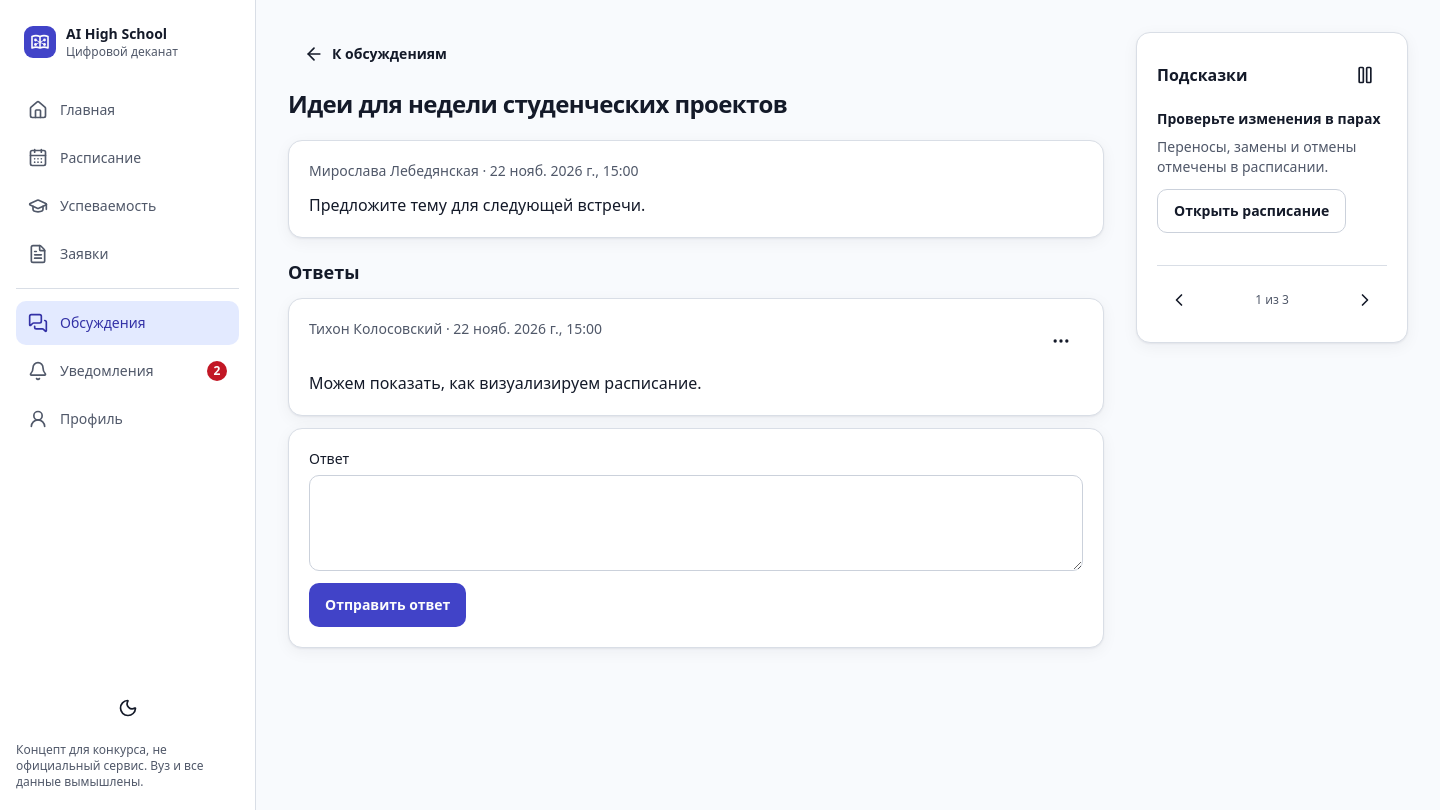
Test: валидирует жалобу, сохраняет причину при сбое и подтверждает повторную отправку
Click the button named "Действия с комментарием" at point(1061, 341), box [1039,319,1083,363]
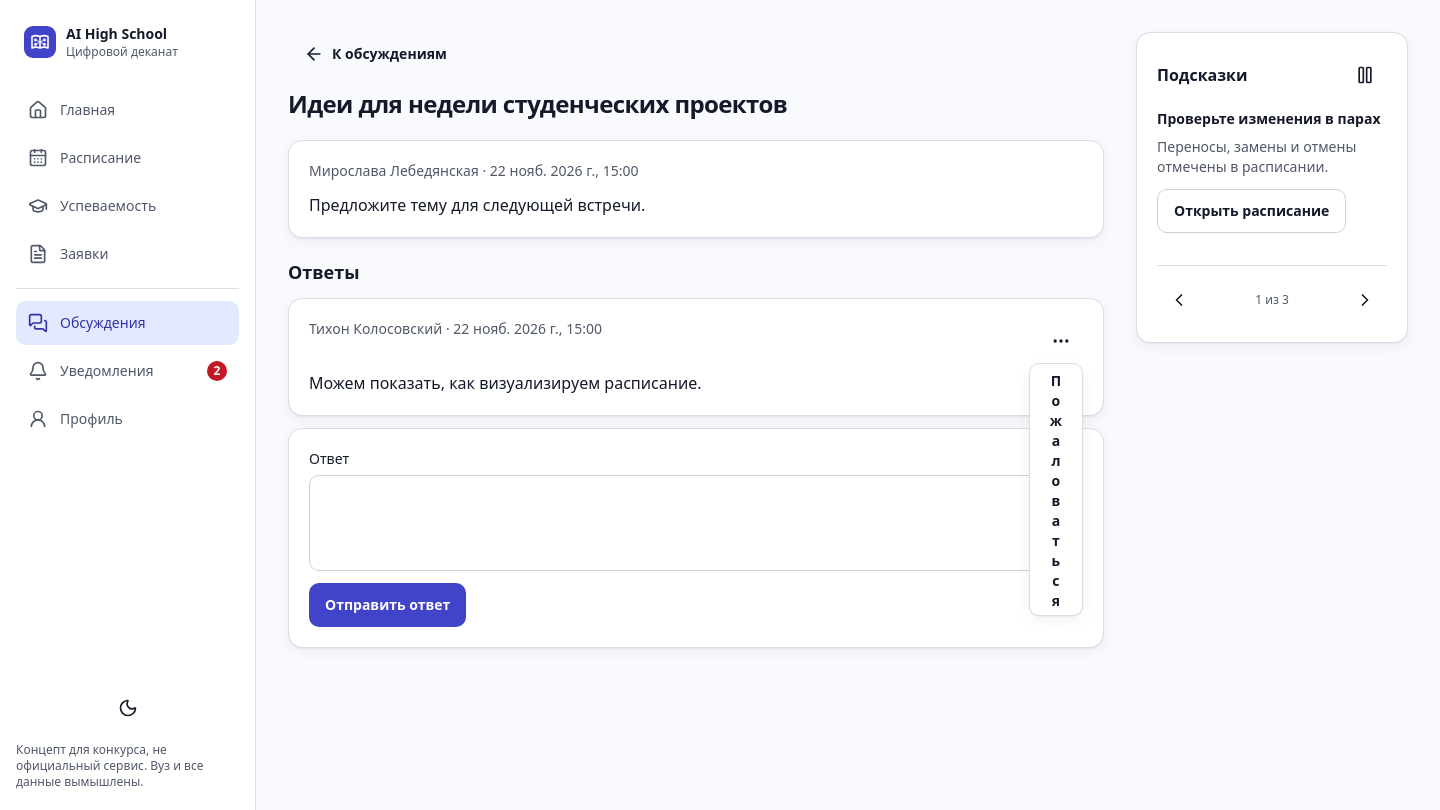
Click the button "Пожаловаться" at point(1056, 491), box [1034,371,1078,611]
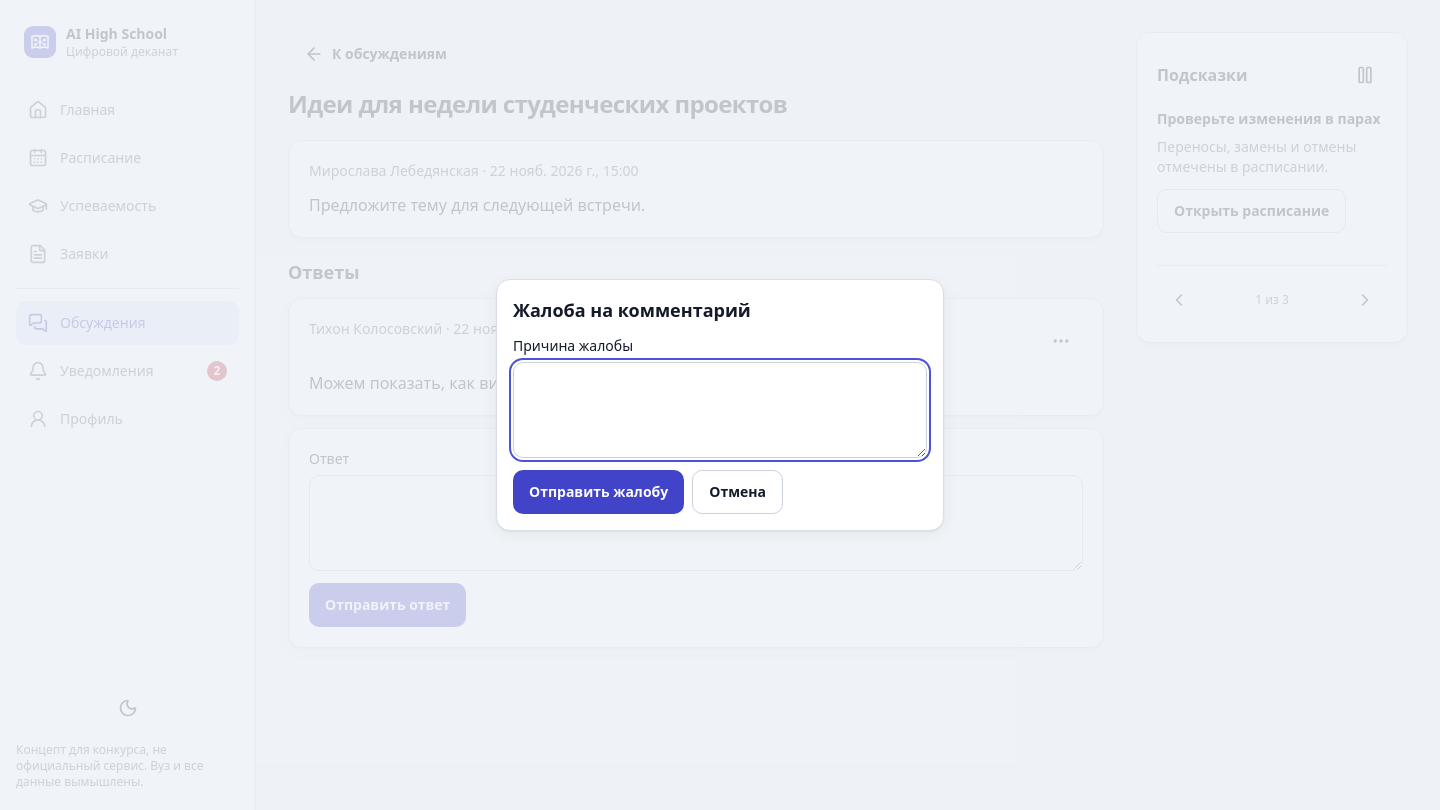
Click the button "Отправить жалобу" at point(599, 492), box [513,470,684,514]
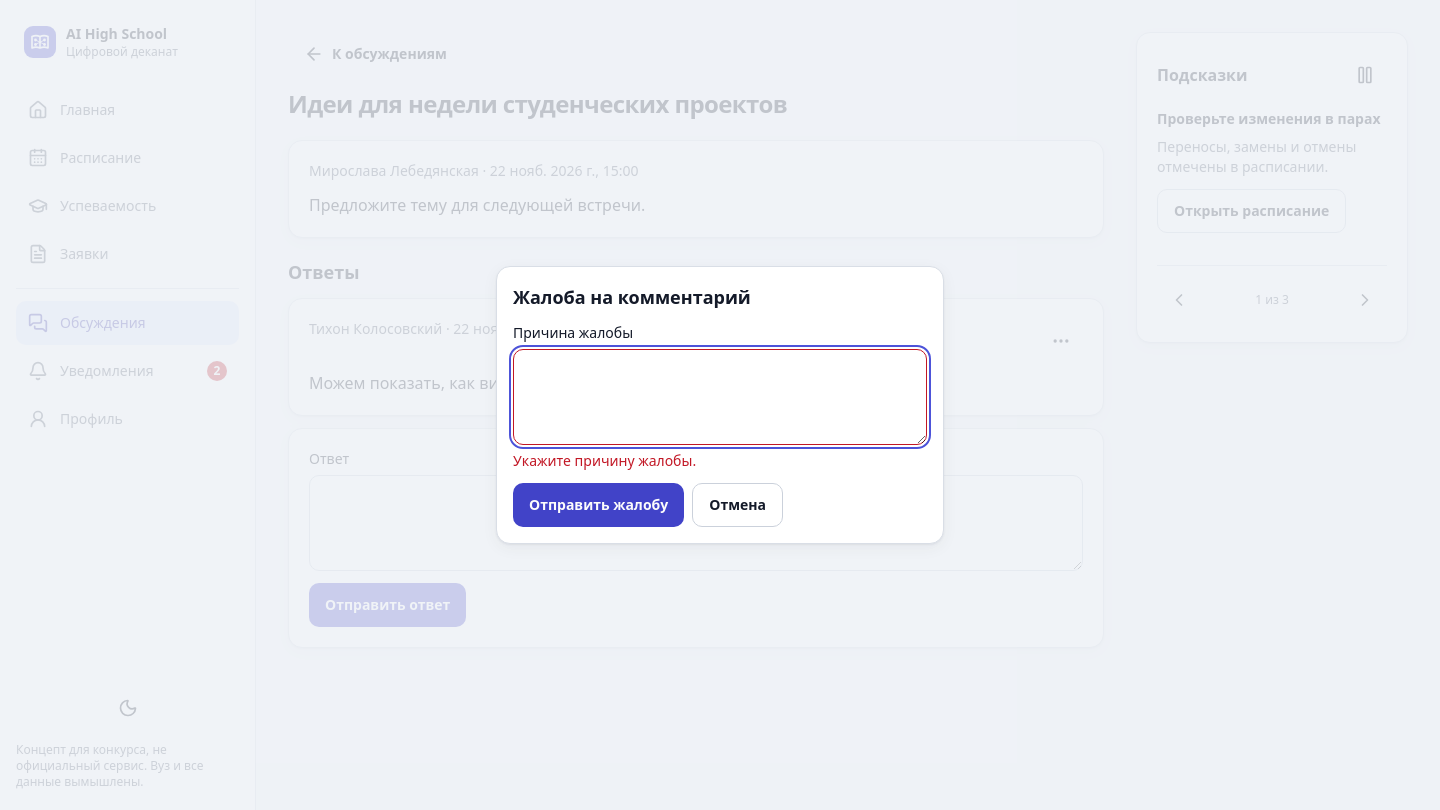
Expected: the text "Укажите причину жалобы." is shown, [513,451,696,470]
Type "  Проверьте этот текст.  " into the text box labelled "Причина жалобы" at point(720, 397), box [513,349,927,445]
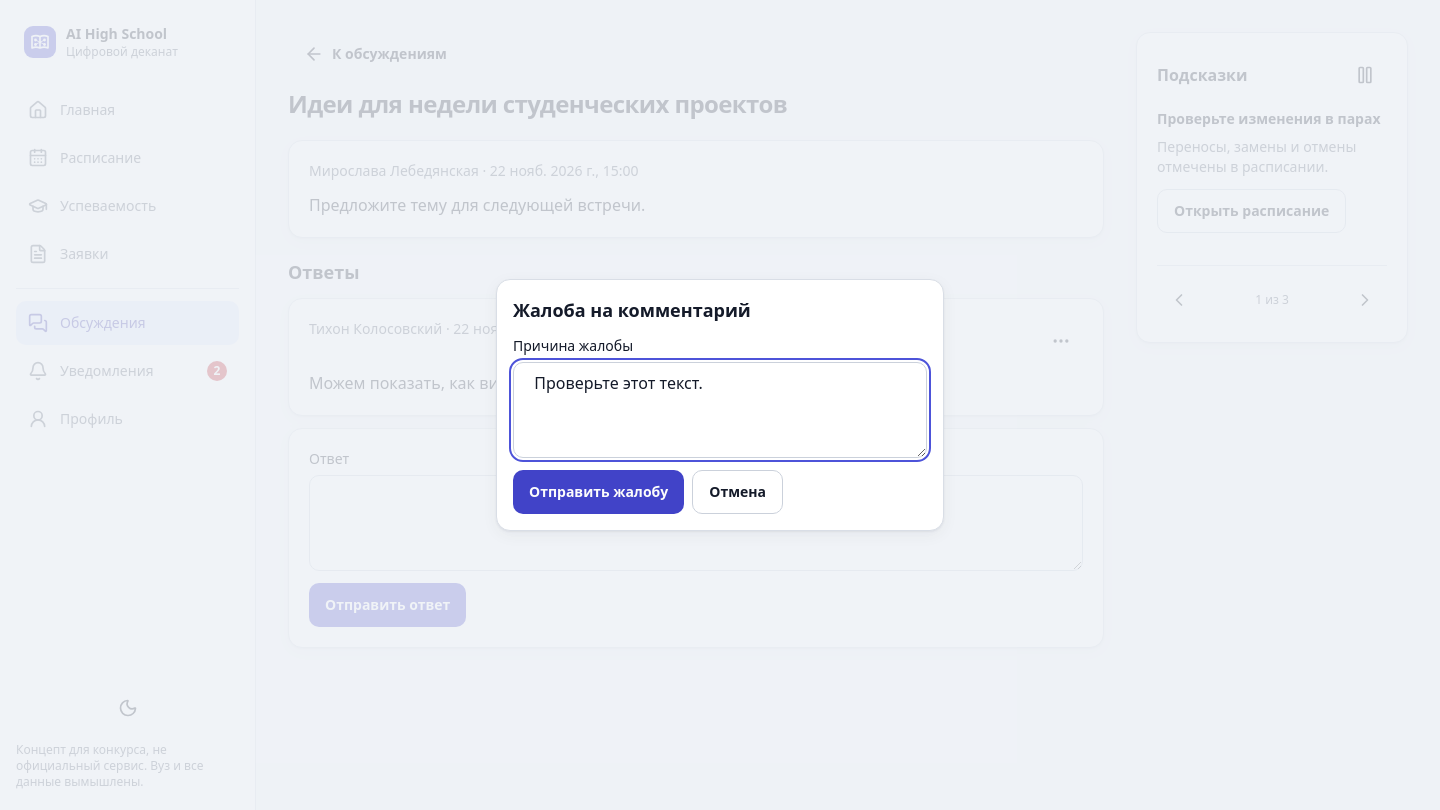
Click the button "Отправить жалобу" at point(599, 492), box [513,470,684,514]
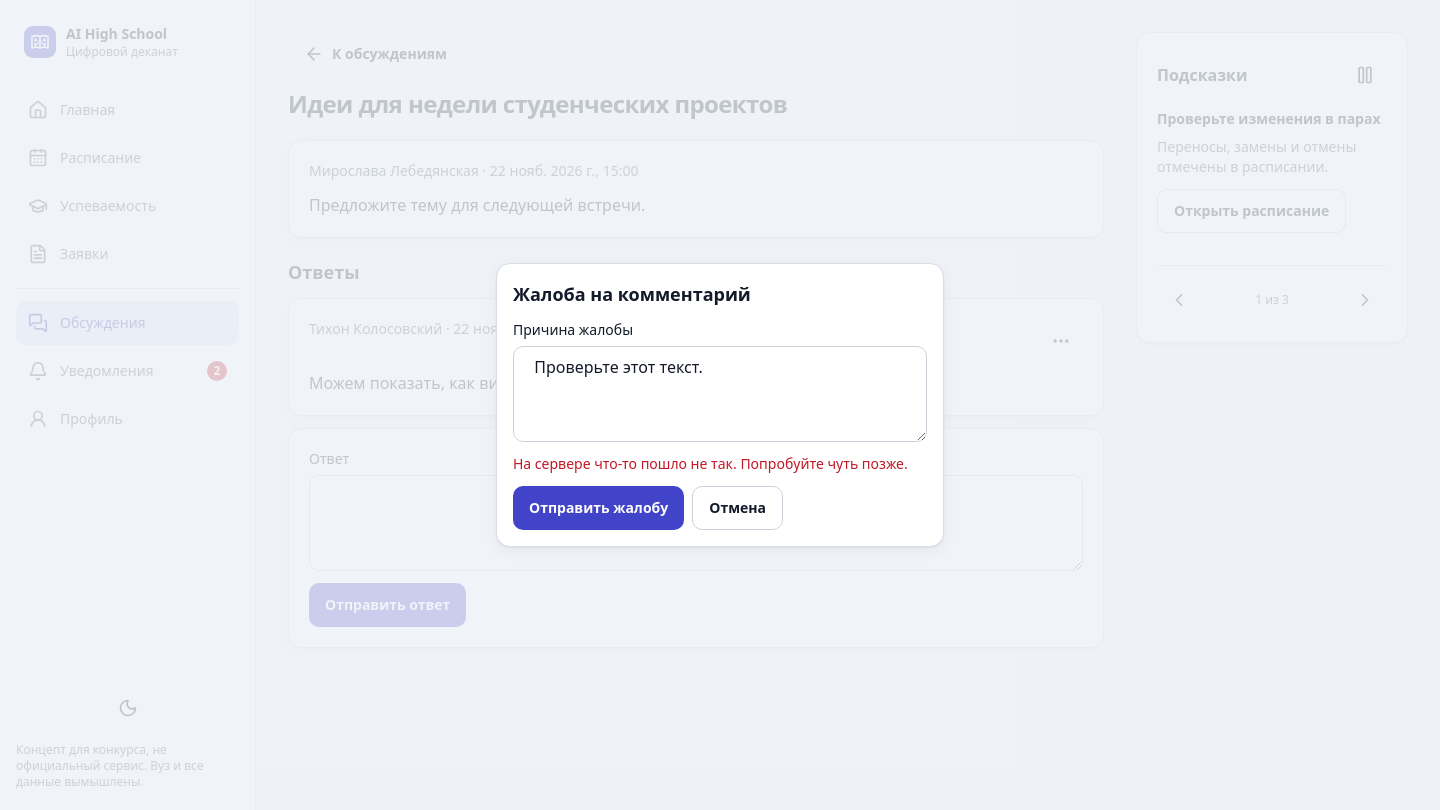
Expected: the text "На сервере что-то пошло не так. Попробуйте чуть позже." is shown, [513,454,927,474]
Click the button "Отправить жалобу" at point(599, 508), box [513,486,684,530]
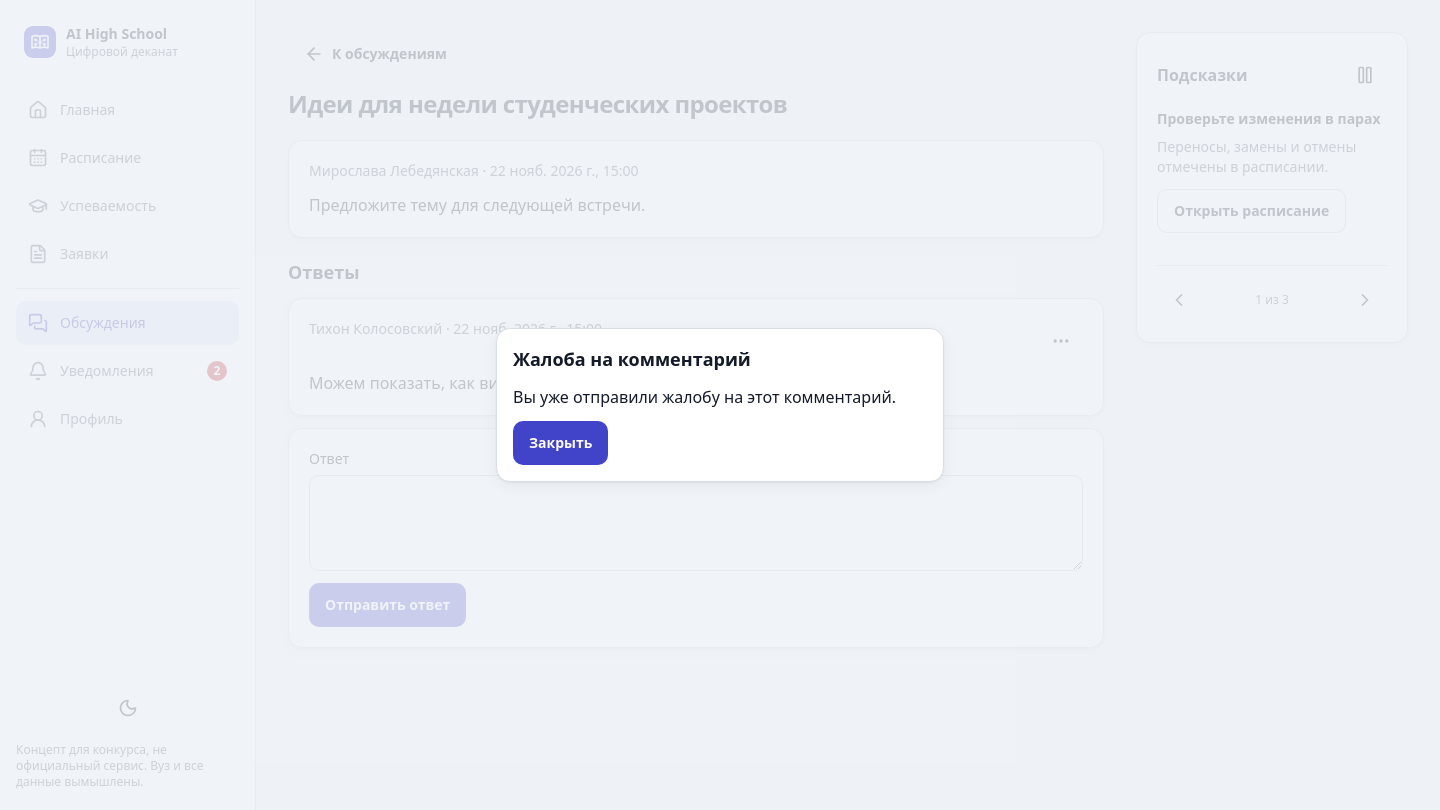
Expected: the text "Вы уже отправили жалобу на этот комментарий." is shown, [513,385,896,409]
